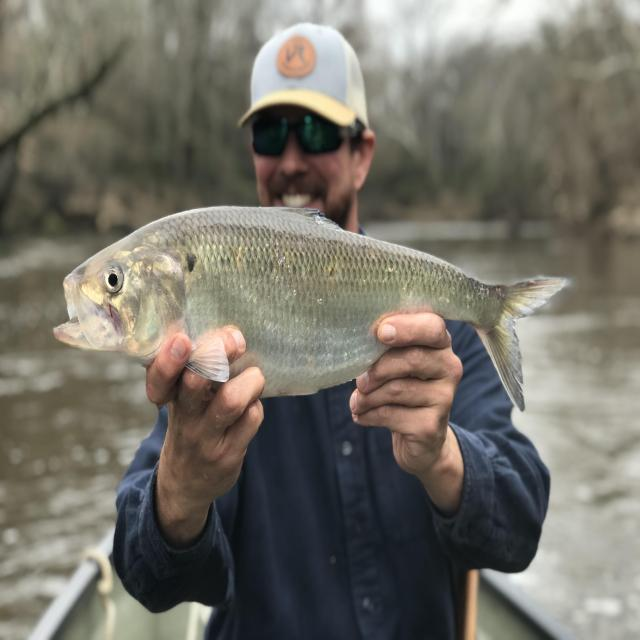Shad - American: (54, 207, 566, 410)
